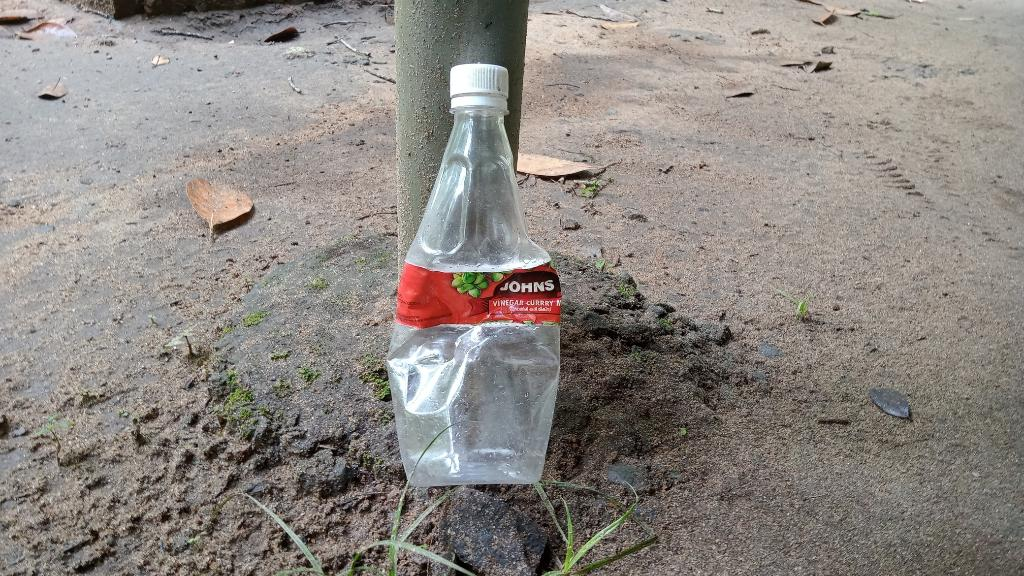garbage: (362, 48, 600, 506)
